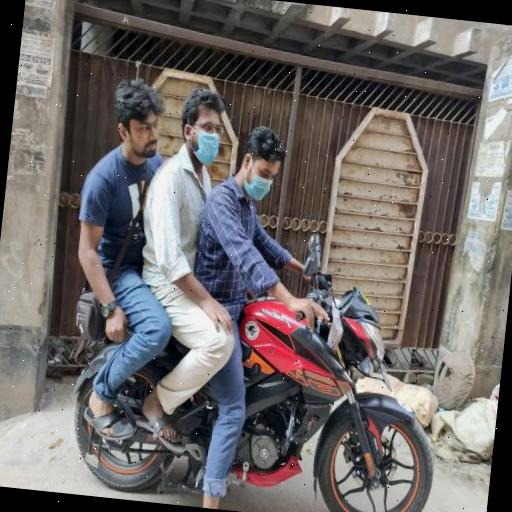no helmet: (219, 111, 292, 260)
triple riding: (31, 64, 512, 512)
